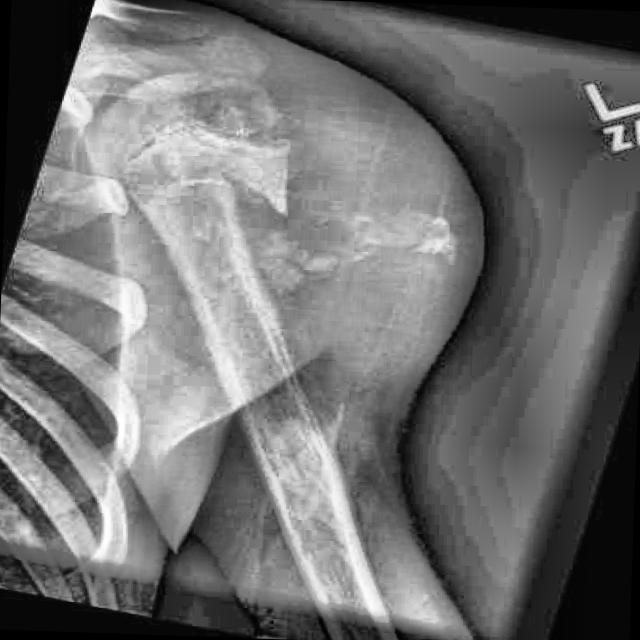shoulder fracture: (188, 121, 330, 239)
